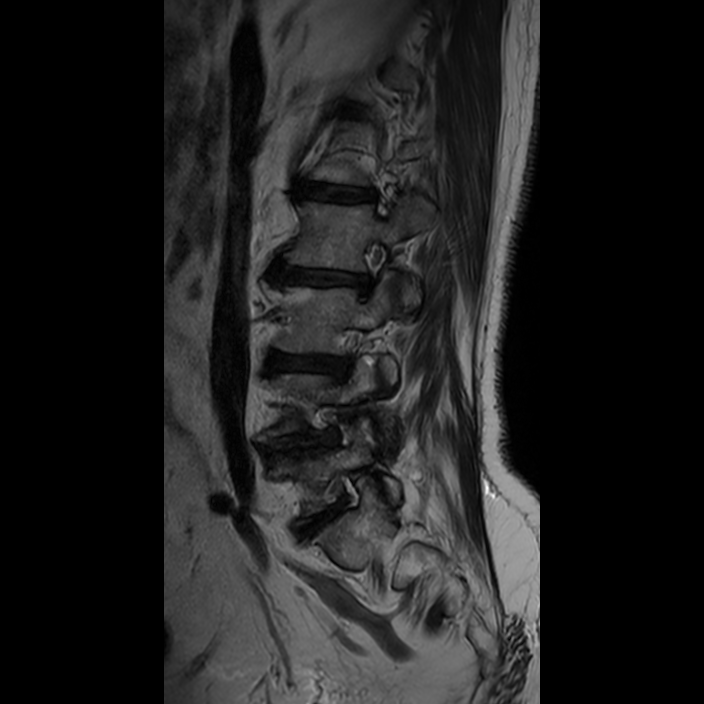RFS0: (345, 231, 402, 308)
